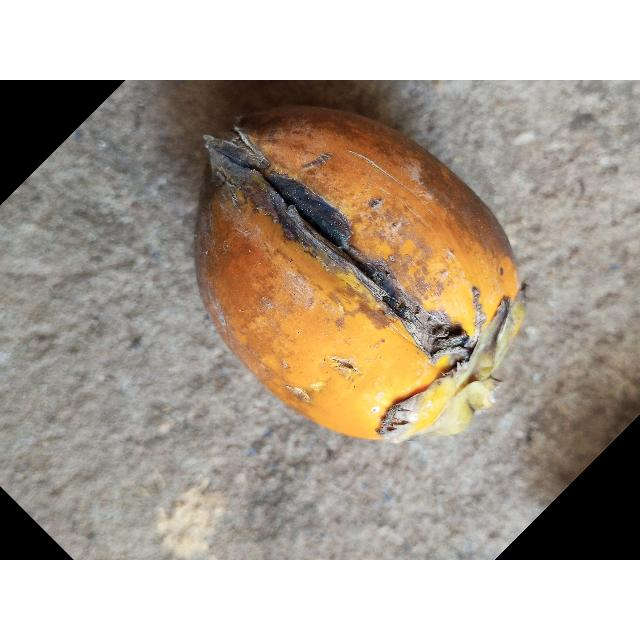damaged: (192, 107, 525, 445)
